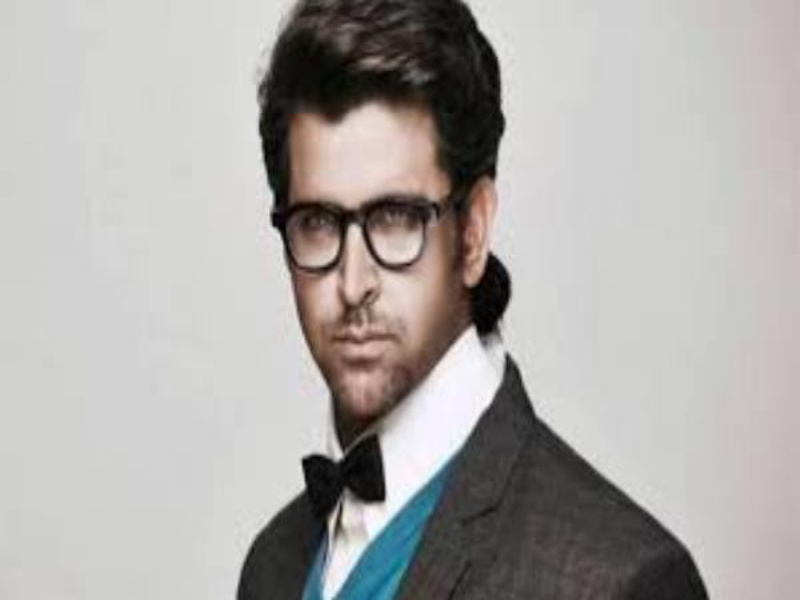TsisyArotava: (249, 1, 501, 429)
